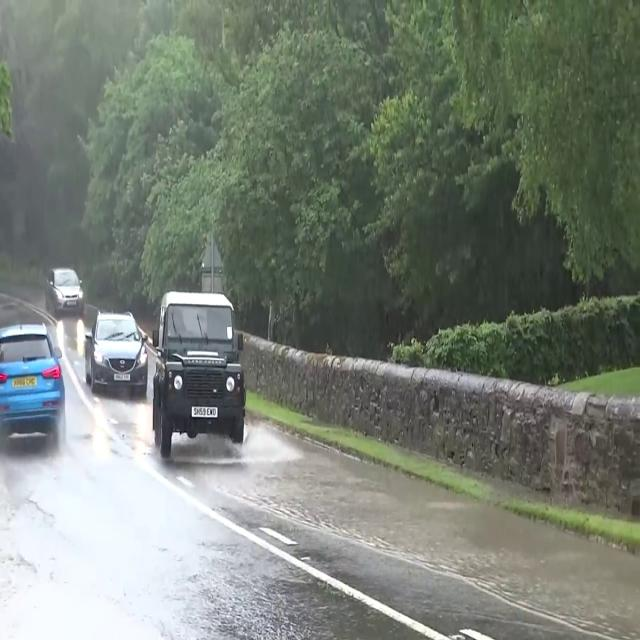license-plate-annotation: (11, 374, 40, 391)
